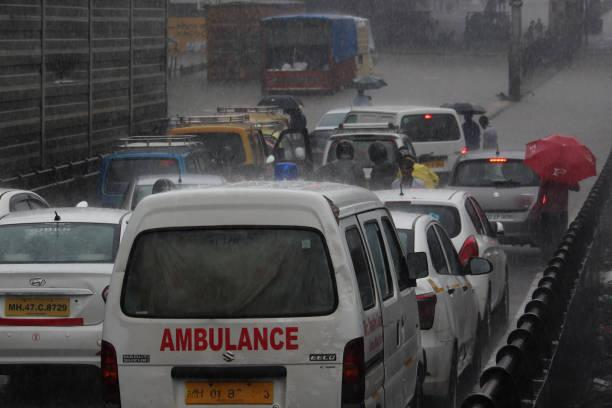AMBULANCE: (160, 312, 306, 367)
